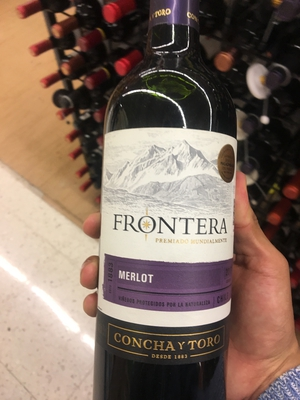frontera merlot: (88, 14, 242, 400)
